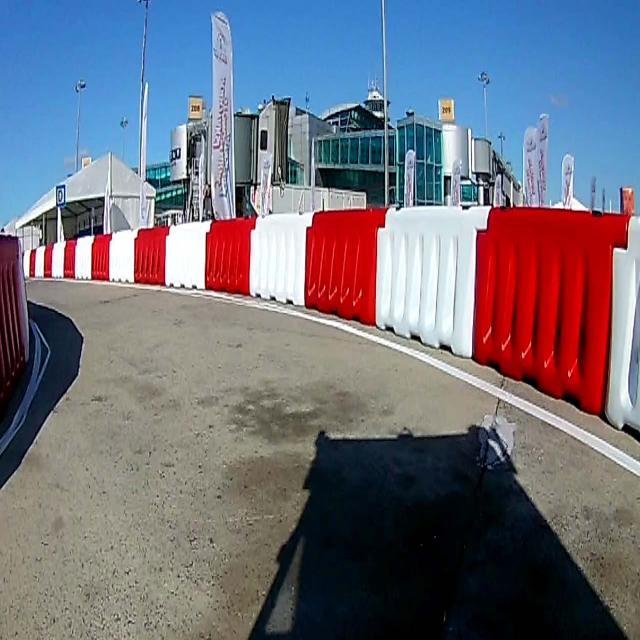durak: (55, 182, 65, 207)
